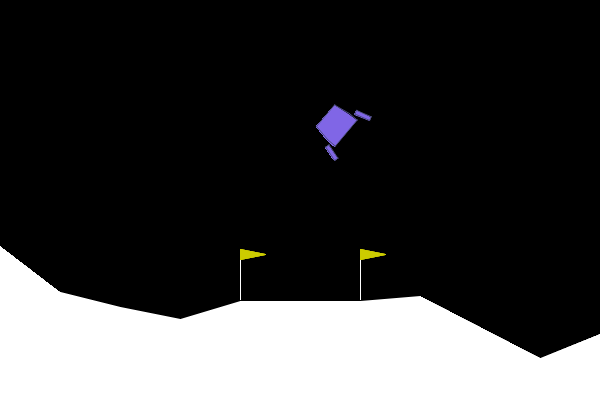lander: (304, 92, 373, 163)
